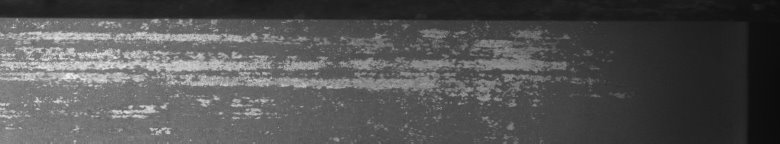kb: (4, 12, 528, 134)
